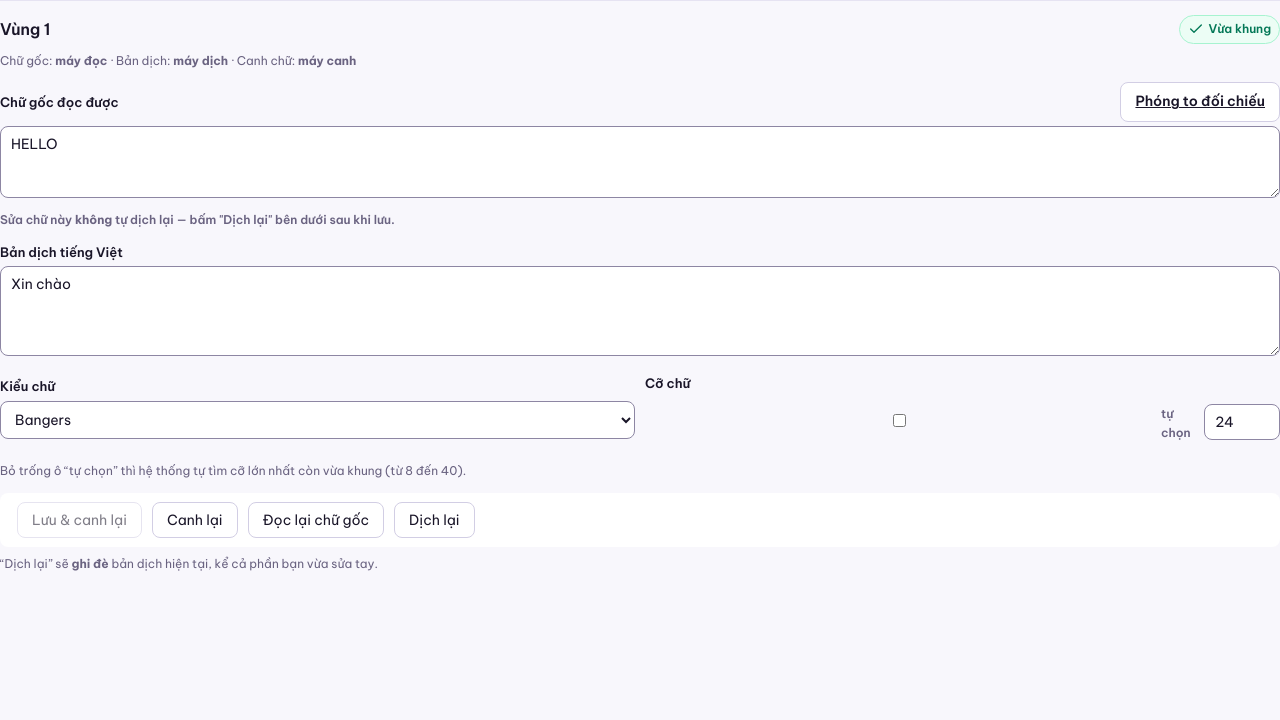
Scenario: phóng to đối chiếu ảnh gốc (E21) › tải ảnh gốc lỗi thì báo rõ, không im lặng trắng trơn
Click the button "Phóng to đối chiếu": (1200, 102) [1120,82,1279,122]
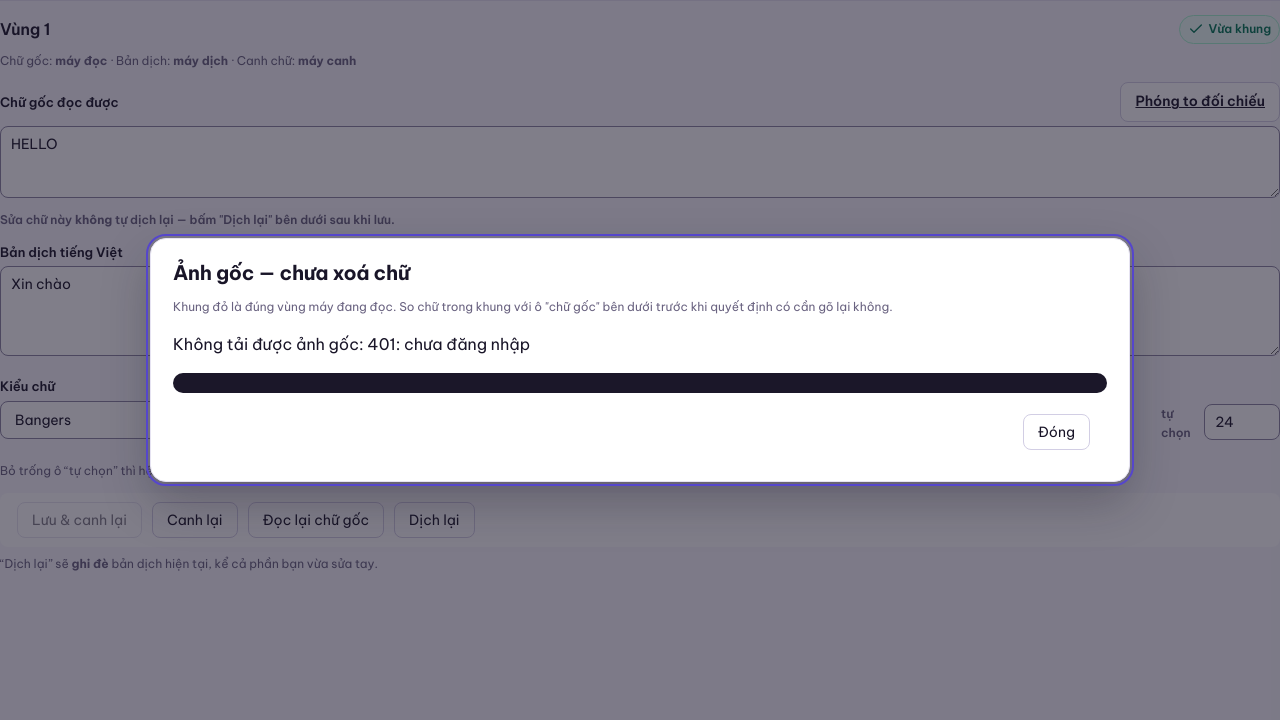
Expected: the text "Không tải được ảnh gốc: 401: chưa đăng nhập" is shown, [173,334,530,354]
